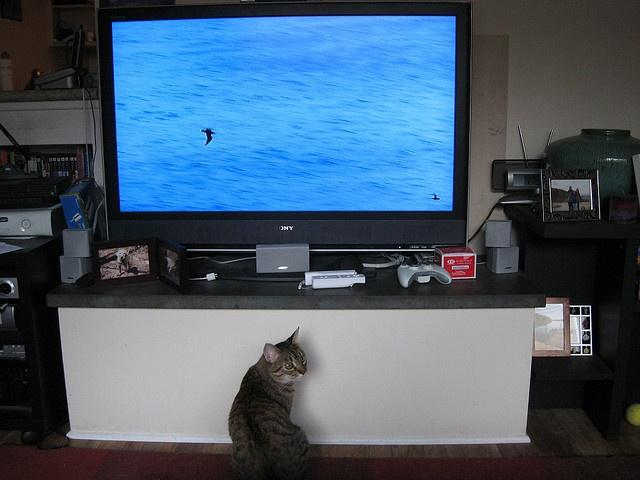AIO PC-Monitor-TV: (97, 0, 472, 246)
